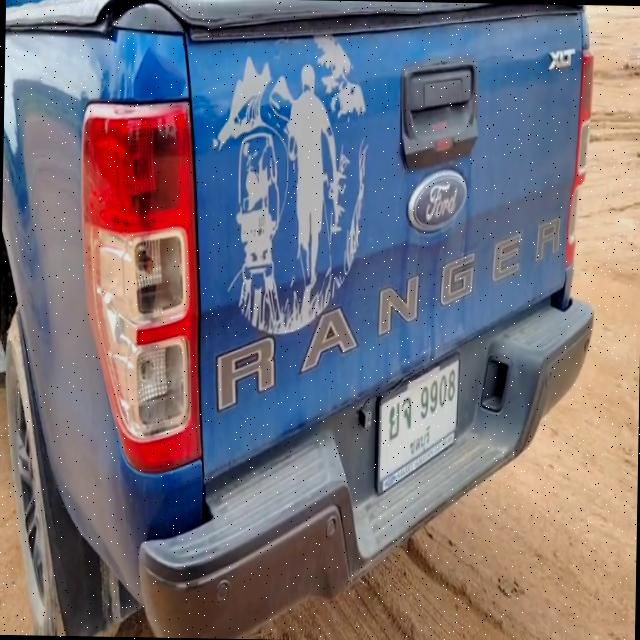Digit: (420, 368, 454, 418)
Licenseplate: (373, 349, 462, 500)
Provincename: (411, 426, 431, 454)
Thaichar: (386, 398, 412, 438)
